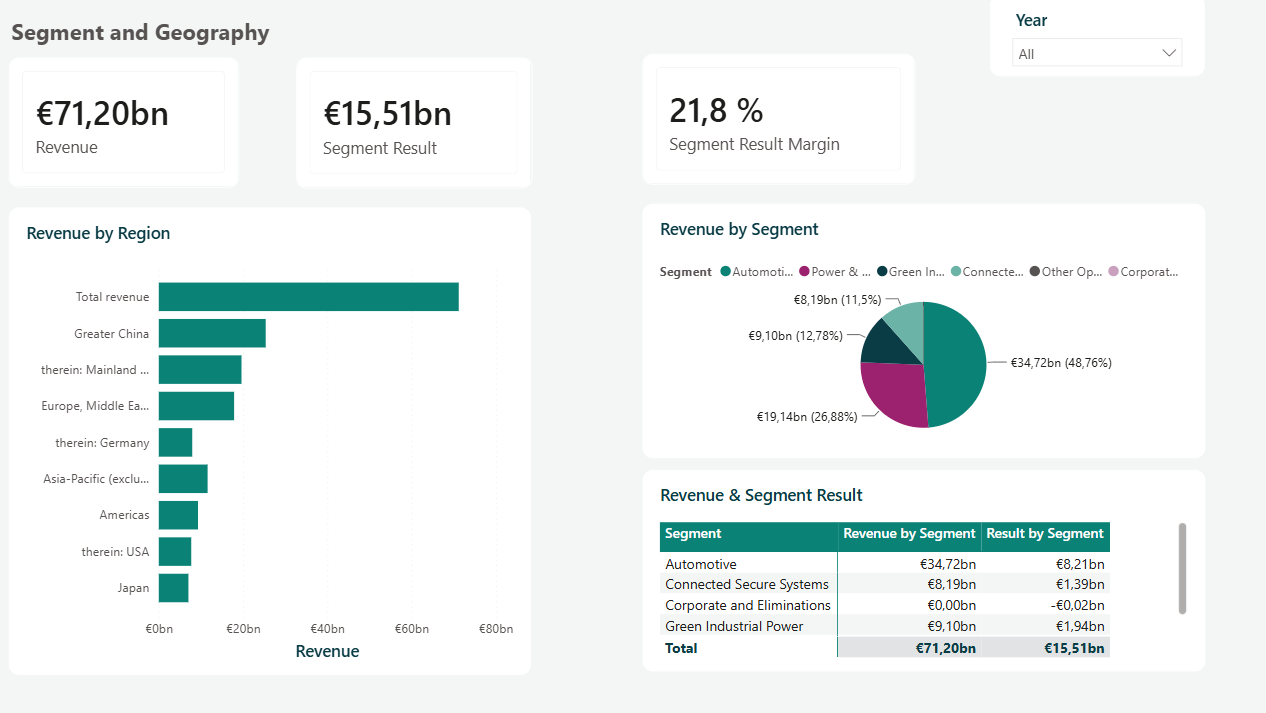

Layout of this report page (visuals, bound fields, positions):
{"tool":"powerbi","page":{"name":"Segment and Geography ","canvas":[1280,720],"ordinal":1},"visuals":[{"type":"clusteredBarChart","title":"Revenue by Region","fields":{"Category":["Revenue By Region.Metric"],"Y":["Revenue By Region.Revenue by Geography"]},"box":[57.1,214.3,504.3,451.4],"z":0},{"type":"slicer","fields":{"Values":["Référence Date.Year"]},"box":[1004.3,10,207.1,78.6],"z":1000},{"type":"pieChart","title":"Revenue by Segment","fields":{"Category":["Segment.Segment"],"Y":["Segment.Revenue by Segment"]},"box":[668.6,210.9,542.9,245.7],"z":2000},{"type":"cardVisual","fields":{"Data":["Key numbers.Segment Result Margin"]},"box":[668.6,66.6,263.5,126.2],"z":3000},{"type":"cardVisual","fields":{"Data":["Key numbers.Segment Result"]},"box":[334.3,70,227.8,126.2],"z":4000},{"type":"pivotTable","title":"Revenue & Segment Result","fields":{"Rows":["Référence segment.Segment"],"Values":["Segment.Revenue by Segment","Segment Result.Result by Segment"]},"box":[668.6,468,542.9,194.3],"z":5000},{"type":"textbox","box":[42.9,18.6,374.3,70],"z":6000},{"type":"cardVisual","fields":{"Data":["P&L.Revenue"]},"box":[57.1,70,222.6,126],"z":7000}]}

Visuals, with their boxes in screenshot pixels (x1, y1, x2, y2), scaled from the page's 1280x720 canvas onto the 1266x713 screenshot:
"Revenue by Region" clusteredBarChart: 56:212:555:659
slicer - Référence Date.Year: 993:10:1198:88
"Revenue by Segment" pieChart: 661:209:1198:452
cardVisual - Key numbers.Segment Result Margin: 661:66:922:191
cardVisual - Key numbers.Segment Result: 331:69:556:194
"Revenue & Segment Result" pivotTable: 661:463:1198:656
textbox: 42:18:413:88
cardVisual - P&L.Revenue: 56:69:277:194
